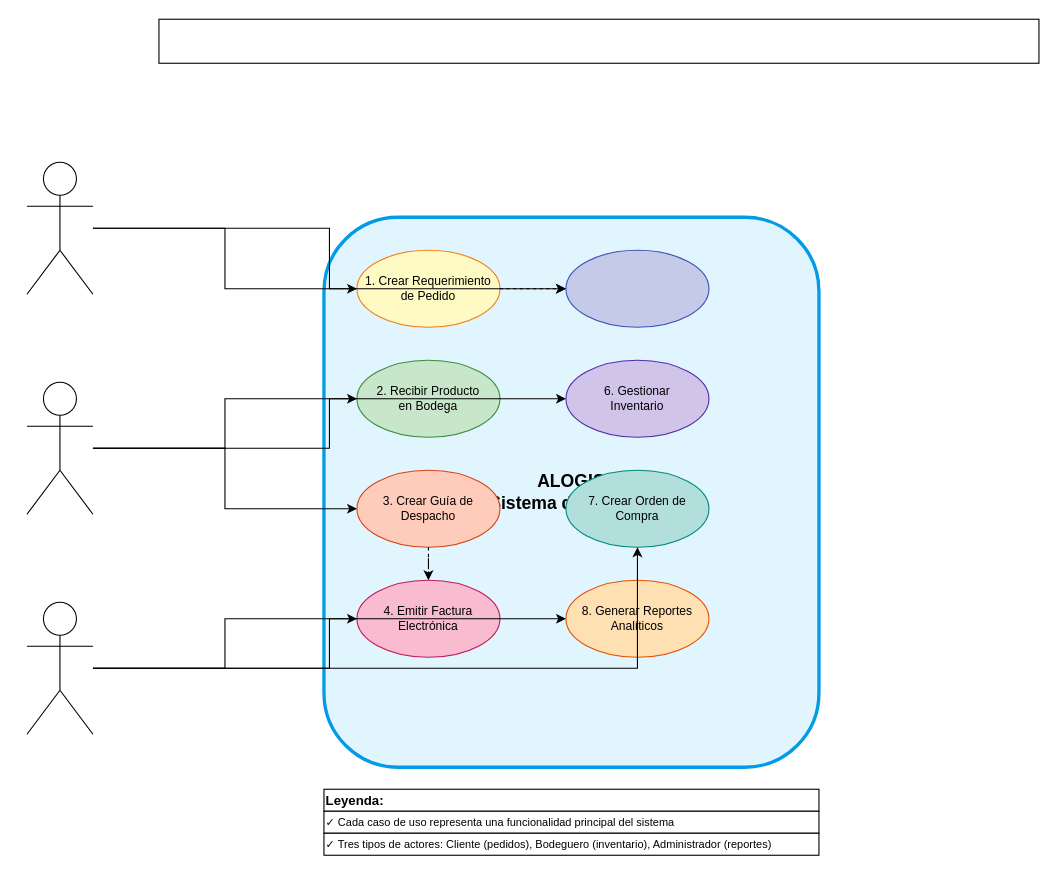
Some shapes in this 1058 by 875 pixel diagram are drawn without their labels. The centre of each missing label's shape, as x and y in pixels:
5. Rastrear Pedido en Tiempo Real: the point at 637,288
Administrador: the point at 59,667
ALOGIS - Sistema de Gestión de Distribución y Abastecimiento: the point at 598,40
Bodeguero: the point at 59,447
Cliente: the point at 59,227
